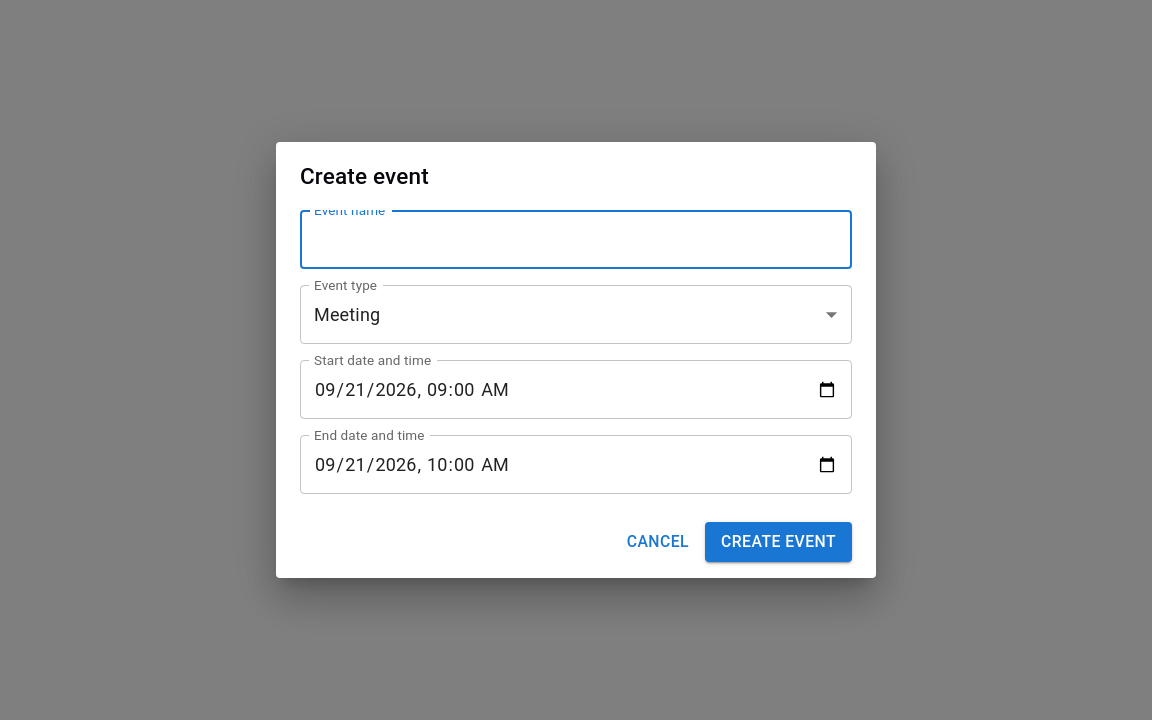
Scenario: EventDialog › clears a field error when that field changes
Step 1. Click the button "Create event" → (779, 542), box [705, 522, 852, 562]
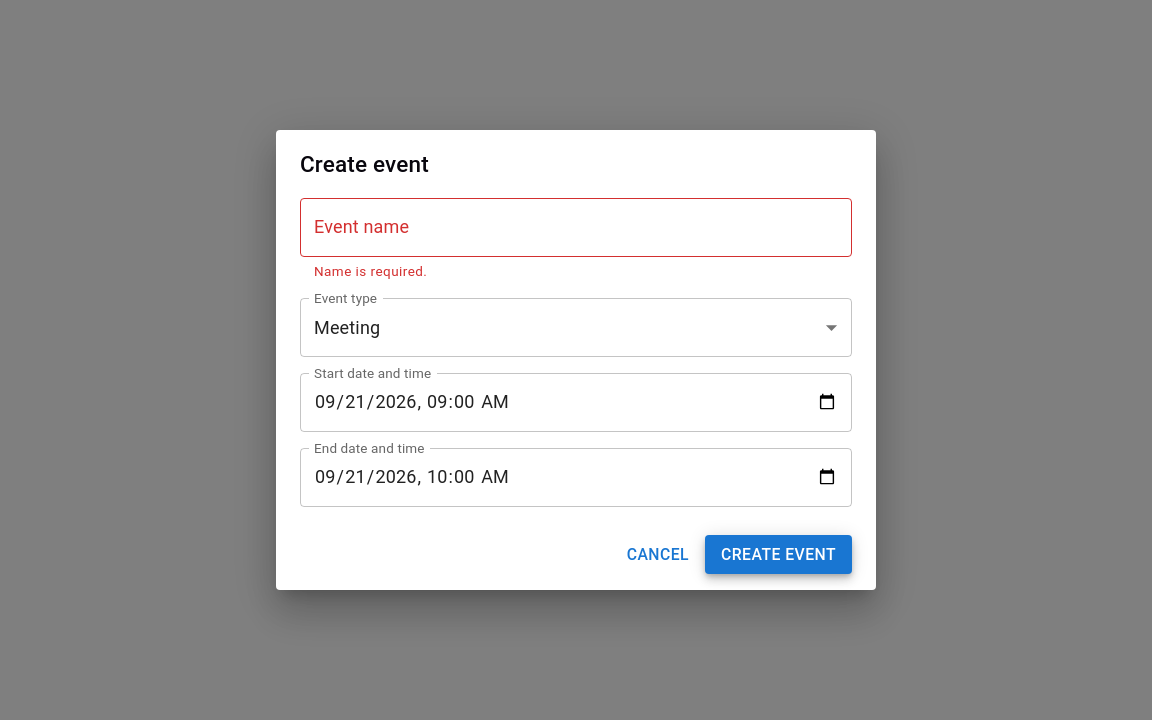
Now the text "Name is required." is shown, box [314, 263, 427, 279]
Step 2. Type "Briefing" into the field labelled "Event name" → (576, 227), box [300, 198, 852, 257]
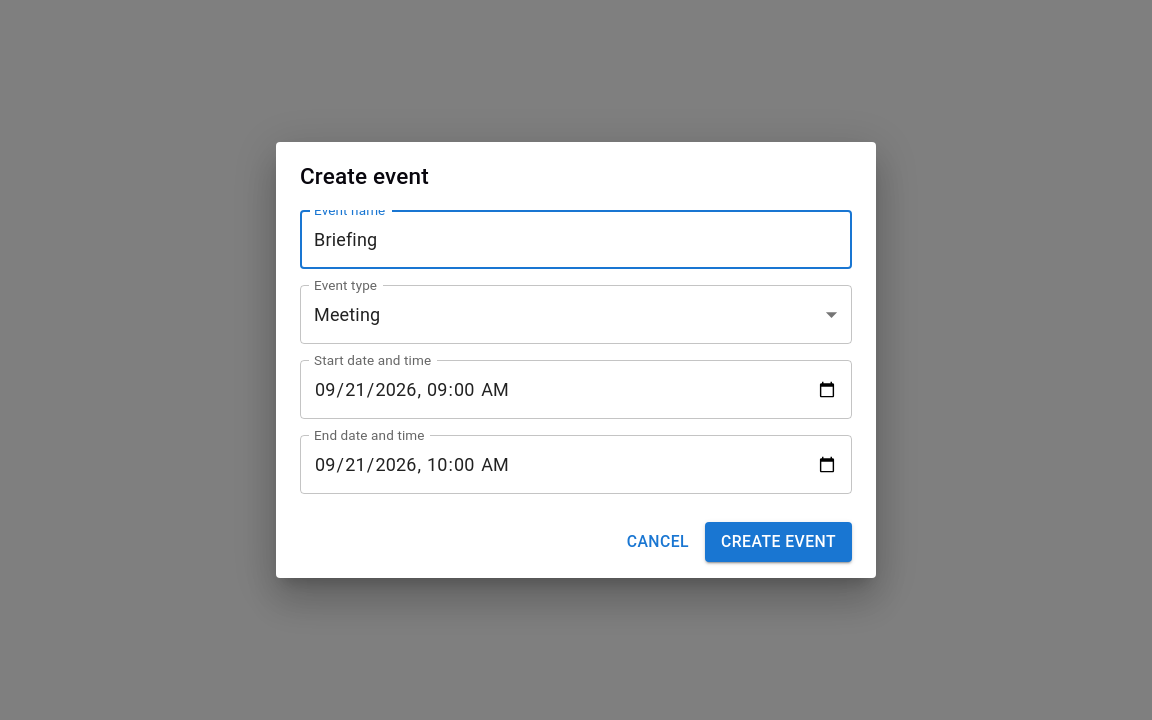
Now the text "Name is required." is gone
